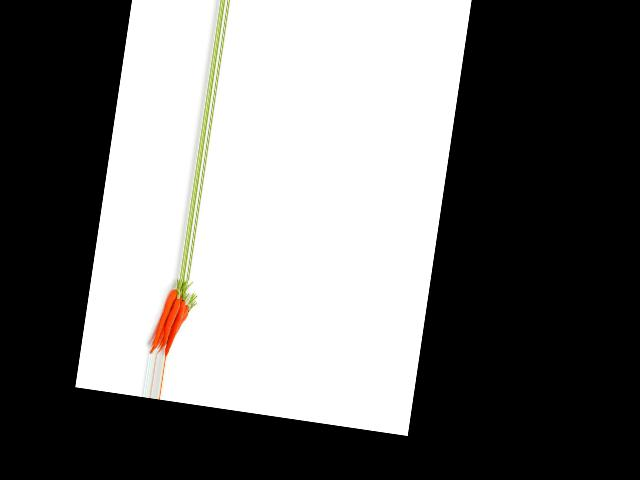carrot: (152, 285, 173, 354)
